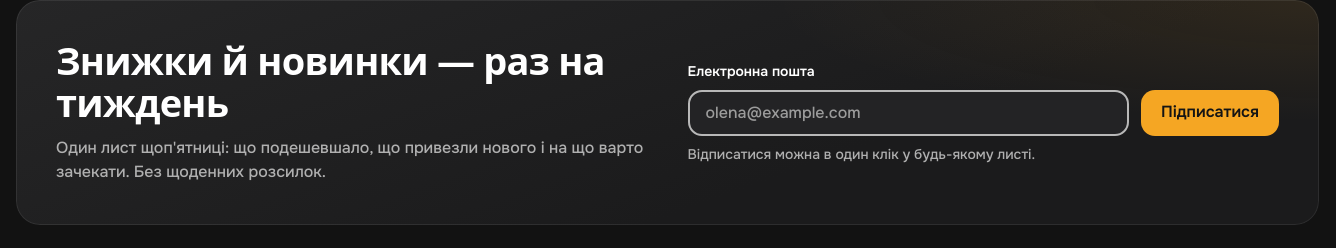
Scenario: Newsletter › без onSubmit неправильна адреса так само дає помилку, а не повідомлення
In the field labelled "Електронна пошта": (908, 113) [688,90,1129,136], type "olena"
Then press Enter
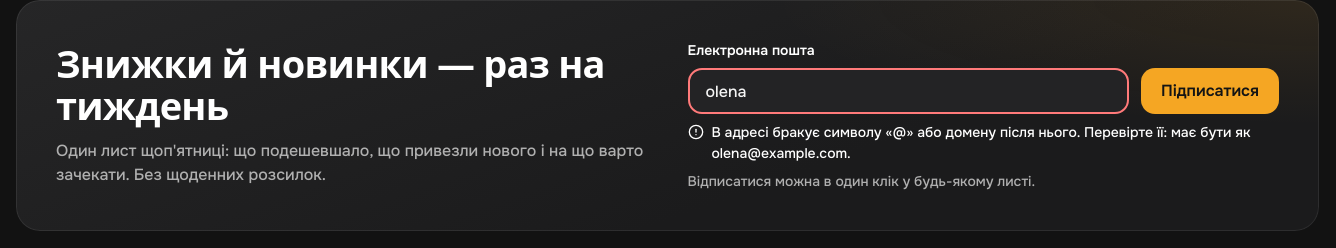
Expected: the text "В адресі бракує символу «@» або домену після нього. Перевірте її: має бути як olena@example.com." is shown, [712,123,1250,162]
